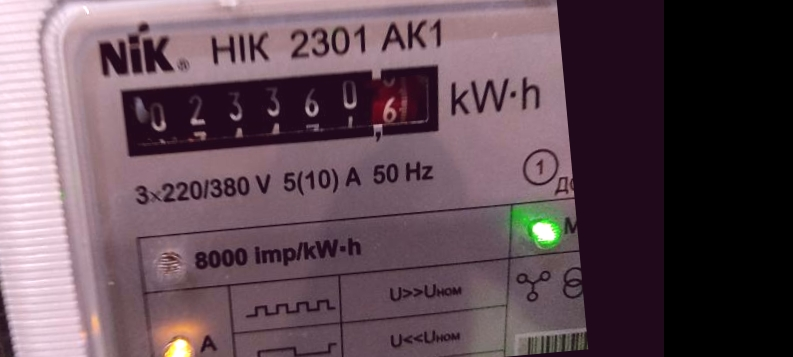0: (144, 96, 169, 133), (336, 75, 361, 112)
2: (184, 91, 208, 127)
3: (223, 87, 246, 124), (262, 83, 283, 118)
6: (299, 82, 322, 118), (378, 91, 399, 125)
screen: (105, 47, 464, 177)
